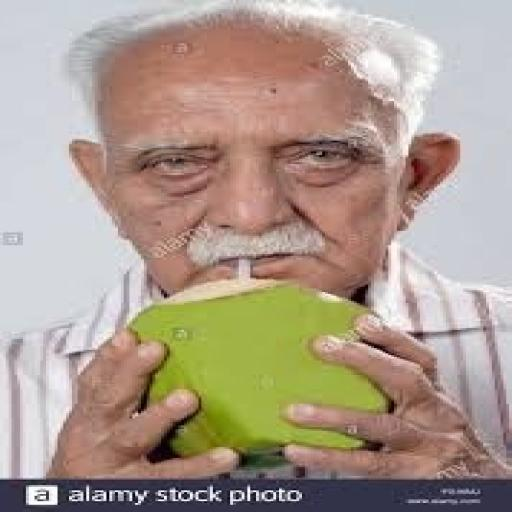drinking: (124, 270, 391, 467)
